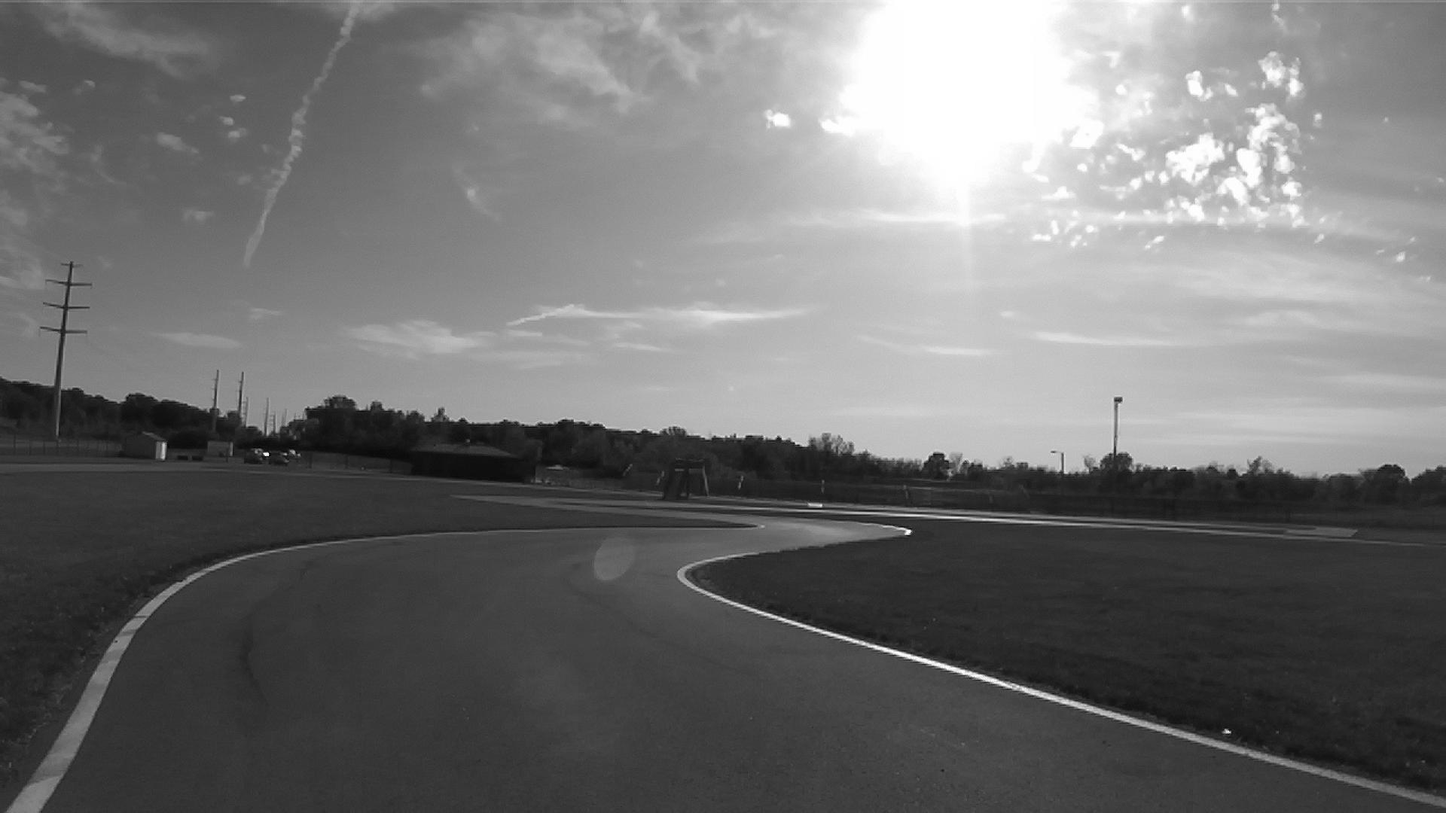white-line: (677, 552, 1445, 807), (7, 531, 543, 812)
